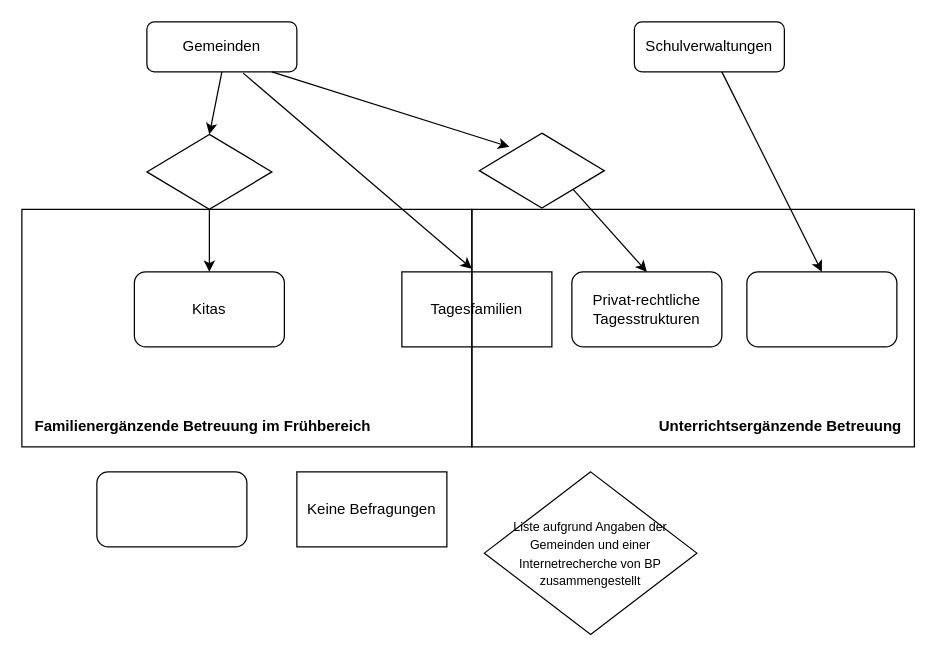
Some shapes in this 936 by 656 pixel diagram are drawn without their labels. Here are the shapes that lost their labels. From the top down, the centre of each, then its label:
At [209,171]: "Liste Kitas".
At [541,170]: "Liste private TS".
At [821,309]: "Öffentlich-rechtliche Tagesstrukturen".
At [171,509]: "Befragungen".
